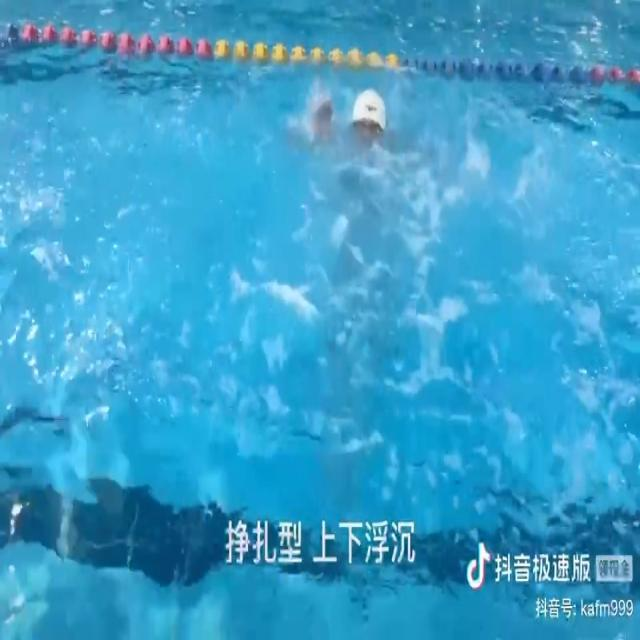Drowning: (292, 78, 412, 166)
